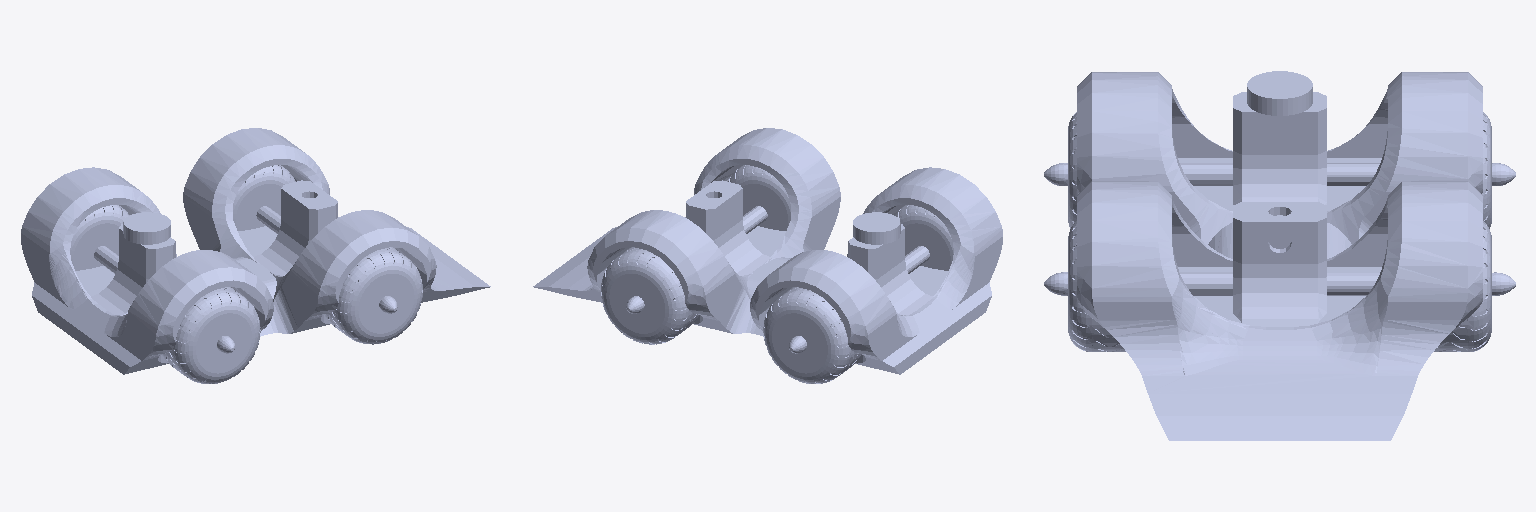
The robot description file, URDF, robot "wheel_robot":
<?xml version="1.0" encoding="utf-8"?>
<!-- This URDF was automatically created by SolidWorks to URDF Exporter! Originally created by [author] ([email redacted]) 
     Commit Version: 1.6.0-1-g15f4949  Build Version: 1.6.7594.29634
     For more information, please see http://wiki.ros.org/sw_urdf_exporter -->
<robot
  name="wheel_robot">
  <link
    name="body">
    <inertial>
      <origin
        xyz="-0.00345845448617114 -1.27437082478017E-07 0.0114321781136311"
        rpy="0 0 0" />
      <mass
        value="0.0900071946882429" />
      <inertia
        ixx="4.90631252188324E-05"
        ixy="-3.71280927305604E-10"
        ixz="-3.1186541655006E-06"
        iyy="9.92493244541926E-05"
        iyz="-5.34357625298288E-10"
        izz="0.000130457547159725" />
    </inertial>
    <visual>
      <origin
        xyz="0 0 0"
        rpy="0 0 0" />
      <geometry>
        <mesh
          filename="package://wheel_robot/meshes/body.STL" />
      </geometry>
      <material
        name="">
        <color
          rgba="0.792156862745098 0.819607843137255 0.933333333333333 1" />
      </material>
    </visual>
    <collision>
      <origin
        xyz="0 0 0"
        rpy="0 0 0" />
      <geometry>
        <mesh
          filename="package://wheel_robot/meshes/body.STL" />
      </geometry>
    </collision>
  </link>
  <link
    name="wheel_L1">
    <inertial>
      <origin
        xyz="-6.9389E-18 1.7347E-18 0.030308"
        rpy="0 0 0" />
      <mass
        value="0.011427" />
      <inertia
        ixx="9.9372E-07"
        ixy="-2.647E-23"
        ixz="-1.2724E-17"
        iyy="9.9372E-07"
        iyz="-1.1513E-17"
        izz="1.076E-06" />
    </inertial>
    <visual>
      <origin
        xyz="0 0 0"
        rpy="0 0 0" />
      <geometry>
        <mesh
          filename="package://wheel_robot/meshes/wheel_L1.STL" />
      </geometry>
      <material
        name="">
        <color
          rgba="0.79216 0.81961 0.93333 1" />
      </material>
    </visual>
    <collision>
      <origin
        xyz="0 0 0"
        rpy="0 0 0" />
      <geometry>
        <mesh
          filename="package://wheel_robot/meshes/wheel_L1.STL" />
      </geometry>
    </collision>
  </link>
  <joint
    name="wheel_LJ1"
    type="continuous">
    <origin
      xyz="0.0275 -0.005 0.013"
      rpy="1.5708 -0.2212 0" />
    <parent
      link="body" />
    <child
      link="wheel_L1" />
    <axis
      xyz="0 0 1" />
  </joint>
  <link
    name="wheel_L2">
    <inertial>
      <origin
        xyz="-3.4694E-18 0 0.030308"
        rpy="0 0 0" />
      <mass
        value="0.011427" />
      <inertia
        ixx="9.9372E-07"
        ixy="-3.6957E-23"
        ixz="-1.2724E-17"
        iyy="9.9372E-07"
        iyz="-1.1513E-17"
        izz="1.076E-06" />
    </inertial>
    <visual>
      <origin
        xyz="0 0 0"
        rpy="0 0 0" />
      <geometry>
        <mesh
          filename="package://wheel_robot/meshes/wheel_L2.STL" />
      </geometry>
      <material
        name="">
        <color
          rgba="0.79216 0.81961 0.93333 1" />
      </material>
    </visual>
    <collision>
      <origin
        xyz="0 0 0"
        rpy="0 0 0" />
      <geometry>
        <mesh
          filename="package://wheel_robot/meshes/wheel_L2.STL" />
      </geometry>
    </collision>
  </link>
  <joint
    name="wheel_LJ2"
    type="continuous">
    <origin
      xyz="-0.0275 -0.005 0.013"
      rpy="1.5708 0 0" />
    <parent
      link="body" />
    <child
      link="wheel_L2" />
    <axis
      xyz="0 0 1" />
  </joint>
  <link
    name="wheel_R1">
    <inertial>
      <origin
        xyz="-2.46330733588707E-16 6.93889390390723E-18 -0.030308288856835"
        rpy="0 0 0" />
      <mass
        value="0.0114267079612173" />
      <inertia
        ixx="9.93716942507501E-07"
        ixy="-5.70945968762743E-23"
        ixz="-1.27233219610879E-17"
        iyy="9.93716942507501E-07"
        iyz="1.15124972222447E-17"
        izz="1.0759637694368E-06" />
    </inertial>
    <visual>
      <origin
        xyz="0 0 0"
        rpy="0 0 0" />
      <geometry>
        <mesh
          filename="package://wheel_robot/meshes/wheel_R1.STL" />
      </geometry>
      <material
        name="">
        <color
          rgba="0.792156862745098 0.819607843137255 0.933333333333333 1" />
      </material>
    </visual>
    <collision>
      <origin
        xyz="0 0 0"
        rpy="0 0 0" />
      <geometry>
        <mesh
          filename="package://wheel_robot/meshes/wheel_R1.STL" />
      </geometry>
    </collision>
  </link>
  <joint
    name="wheel_RJ1"
    type="continuous">
    <origin
      xyz="0.0275 0.005 0.013"
      rpy="1.5708 0 0" />
    <parent
      link="body" />
    <child
      link="wheel_R1" />
    <axis
      xyz="0 0 -1" />
  </joint>
  <link
    name="wheel_R2">
    <inertial>
      <origin
        xyz="3.46944695195361E-18 -3.46944695195361E-18 -0.0303082888568349"
        rpy="0 0 0" />
      <mass
        value="0.0114267079612173" />
      <inertia
        ixx="9.93716942507502E-07"
        ixy="-2.24993126614424E-22"
        ixz="-1.27240957786686E-17"
        iyy="9.93716942507502E-07"
        iyz="1.15126860823422E-17"
        izz="1.07596376943681E-06" />
    </inertial>
    <visual>
      <origin
        xyz="0 0 0"
        rpy="0 0 0" />
      <geometry>
        <mesh
          filename="package://wheel_robot/meshes/wheel_R2.STL" />
      </geometry>
      <material
        name="">
        <color
          rgba="0.792156862745098 0.819607843137255 0.933333333333333 1" />
      </material>
    </visual>
    <collision>
      <origin
        xyz="0 0 0"
        rpy="0 0 0" />
      <geometry>
        <mesh
          filename="package://wheel_robot/meshes/wheel_R2.STL" />
      </geometry>
    </collision>
  </link>
  <joint
    name="wheel_RJ2"
    type="continuous">
    <origin
      xyz="-0.0275 0.005 0.013"
      rpy="1.5708 -0.22488 0" />
    <parent
      link="body" />
    <child
      link="wheel_R2" />
    <axis
      xyz="0 0 -1" />
  </joint>
  <link
    name="lidar">
    <inertial>
      <origin
        xyz="-3.46944695195361E-18 -1.89580779882133E-19 0.00382014388489209"
        rpy="0 0 0" />
      <mass
        value="0.000655022068273471" />
      <inertia
        ixx="8.77065641646922E-09"
        ixy="-1.34506811361043E-41"
        ixz="-1.82374187768398E-41"
        iyy="8.77065641646922E-09"
        iyz="4.5783991086801E-25"
        izz="1.5208646385569E-08" />
    </inertial>
    <visual>
      <origin
        xyz="0 0 0"
        rpy="0 0 0" />
      <geometry>
        <mesh
          filename="package://wheel_robot/meshes/lidar.STL" />
      </geometry>
      <material
        name="">
        <color
          rgba="0.792156862745098 0.819607843137255 0.933333333333333 1" />
      </material>
    </visual>
    <collision>
      <origin
        xyz="0 0 0"
        rpy="0 0 0" />
      <geometry>
        <mesh
          filename="package://wheel_robot/meshes/lidar.STL" />
      </geometry>
    </collision>
  </link>
  <joint
    name="lidar_joint"
    type="fixed">
    <origin
      xyz="-0.0275 0 0.028"
      rpy="0 0 0" />
    <parent
      link="body" />
    <child
      link="lidar" />
    <axis
      xyz="0 0 0" />
  </joint>
  <link
    name="camera">
    <inertial>
      <origin
        xyz="-0.00286548223350253 -9.95404832614943E-18 2.77555756156289E-17"
        rpy="0 0 0" />
      <mass
        value="0.000154723438189297" />
      <inertia
        ixx="8.29871334399828E-10"
        ixy="4.81866151369425E-25"
        ixz="-1.40289814515442E-24"
        iyy="6.97759074109873E-10"
        iyz="-6.68959257195479E-39"
        izz="6.97759074109873E-10" />
    </inertial>
    <visual>
      <origin
        xyz="0 0 0"
        rpy="0 0 0" />
      <geometry>
        <mesh
          filename="package://wheel_robot/meshes/camera.STL" />
      </geometry>
      <material
        name="">
        <color
          rgba="0.792156862745098 0.819607843137255 0.933333333333333 1" />
      </material>
    </visual>
    <collision>
      <origin
        xyz="0 0 0"
        rpy="0 0 0" />
      <geometry>
        <mesh
          filename="package://wheel_robot/meshes/camera.STL" />
      </geometry>
    </collision>
  </link>
  <joint
    name="camera_joint"
    type="fixed">
    <origin
      xyz="-0.0305 0 0.025"
      rpy="0 0 0" />
    <parent
      link="body" />
    <child
      link="camera" />
    <axis
      xyz="0 0 0" />
  </joint>
</robot>

--- Render facts (derived) ---
The picture shows the robot from 3 angles, left to right: view 1: azimuth 30°, elevation 25°; view 2: azimuth 150°, elevation 25°; view 3: azimuth 270°, elevation 25°; orthographic projection.
Robot: wheel_robot — 7 links, 6 joints (4 continuous, 2 fixed); root link body; default pose: all joints at 0.
Visible links, largest first — view 1: body, wheel_L2, wheel_L1, wheel_R1, wheel_R2, lidar; view 2: body, wheel_R1, wheel_R2, wheel_L1, wheel_L2, lidar; view 3: body, wheel_L1, wheel_R1, lidar, wheel_R2, wheel_L2.
Link boxes in pixels (x1=…): body: x1=21, y1=128, x2=490, y2=374; wheel_L2: x1=162, y1=287, x2=260, y2=383; wheel_L1: x1=325, y1=247, x2=422, y2=344; wheel_R1: x1=233, y1=165, x2=295, y2=233; wheel_R2: x1=70, y1=205, x2=129, y2=273; lidar: x1=123, y1=212, x2=170, y2=244; body: x1=533, y1=128, x2=1002, y2=374; wheel_R1: x1=601, y1=247, x2=698, y2=344; wheel_R2: x1=763, y1=287, x2=861, y2=383; wheel_L1: x1=728, y1=165, x2=790, y2=233; wheel_L2: x1=894, y1=205, x2=953, y2=273; lidar: x1=853, y1=212, x2=900, y2=244; body: x1=1077, y1=72, x2=1482, y2=440; wheel_L1: x1=1044, y1=221, x2=1232, y2=351; wheel_R1: x1=1327, y1=221, x2=1515, y2=351; lidar: x1=1247, y1=71, x2=1312, y2=115; wheel_R2: x1=1327, y1=112, x2=1515, y2=228; wheel_L2: x1=1044, y1=112, x2=1232, y2=228.
Size in the robot's own frame: 0.1254 by 0.1 by 0.0366 metres.
7 mesh visuals loaded from 7 distinct referenced files (7 binary STL).